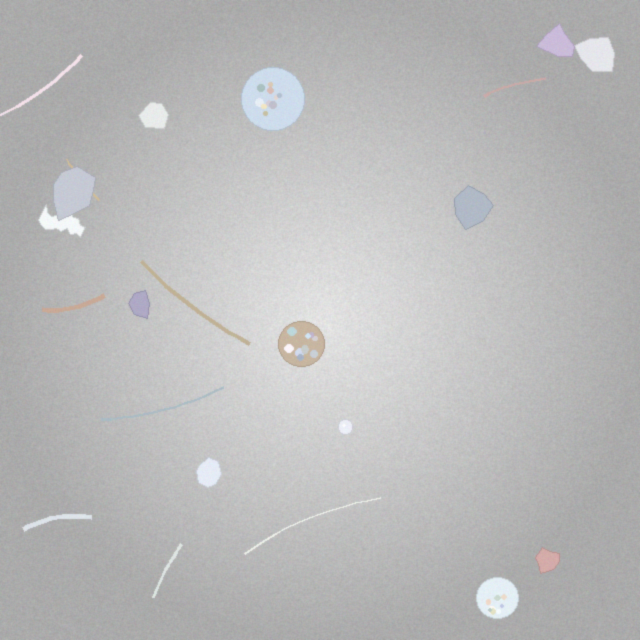fiber: (137, 258, 254, 348), (242, 496, 383, 557), (0, 52, 85, 122), (98, 384, 227, 423), (151, 542, 185, 601), (18, 510, 97, 535), (36, 290, 110, 316), (480, 75, 549, 100), (64, 157, 101, 202)
film: (38, 204, 85, 237)
foam: (242, 68, 305, 130), (278, 321, 324, 367), (477, 577, 518, 619)
fragment: (53, 167, 96, 220), (455, 185, 493, 229), (574, 37, 615, 72), (536, 23, 574, 56), (196, 457, 222, 488), (139, 103, 169, 129), (536, 547, 560, 573), (129, 291, 149, 318)
pellet: (338, 420, 353, 434)
